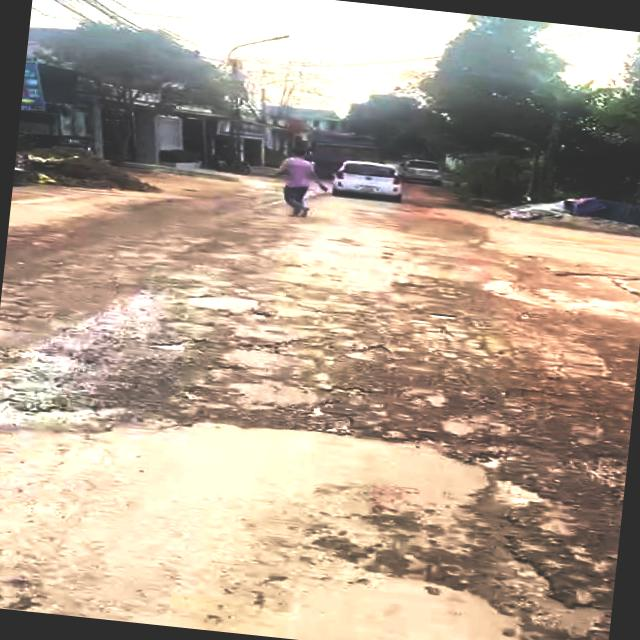pothole: (429, 470, 624, 640), (384, 418, 517, 472), (0, 393, 113, 436), (296, 402, 362, 438), (583, 448, 628, 500), (148, 334, 209, 356)
